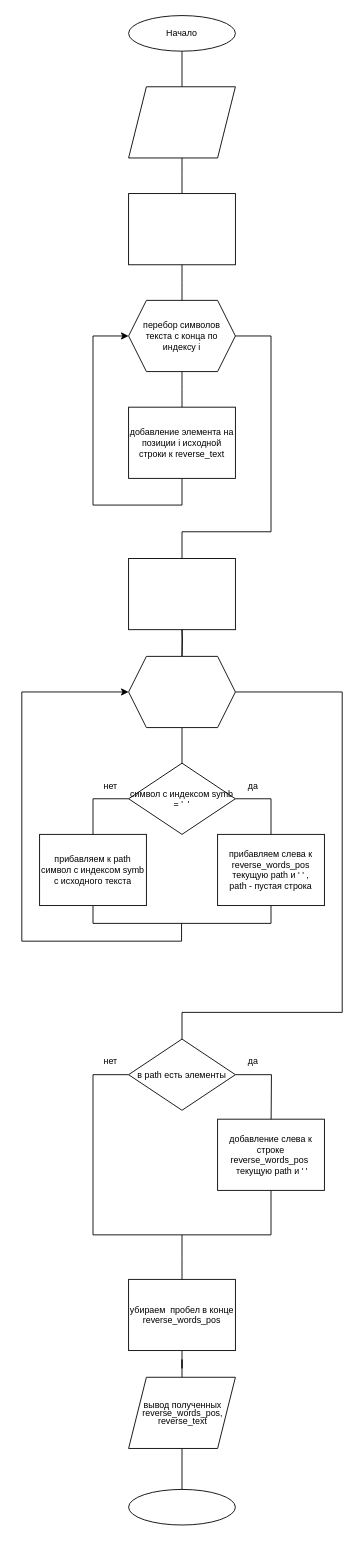
The diagram is 359 pixels wide and 1541 high, and some of its shapes have lost their labels. The box of each missing label's shape, as (x1, y1, x2, y2) in pixels:
ввод текста (orig text): (128, 86, 235, 158)
Конец: (128, 1489, 235, 1525)
перебор индексов symb из orig_text: (128, 655, 235, 728)
пустая строка path: (128, 558, 235, 630)
пустые строки reverse_text, reverse_words_pos: (128, 193, 235, 265)
